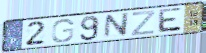2: (23, 21, 49, 47)
9: (79, 14, 101, 42)
E: (156, 6, 183, 34)
G: (51, 18, 76, 44)
N: (102, 11, 131, 40)
Z: (129, 9, 157, 37)
